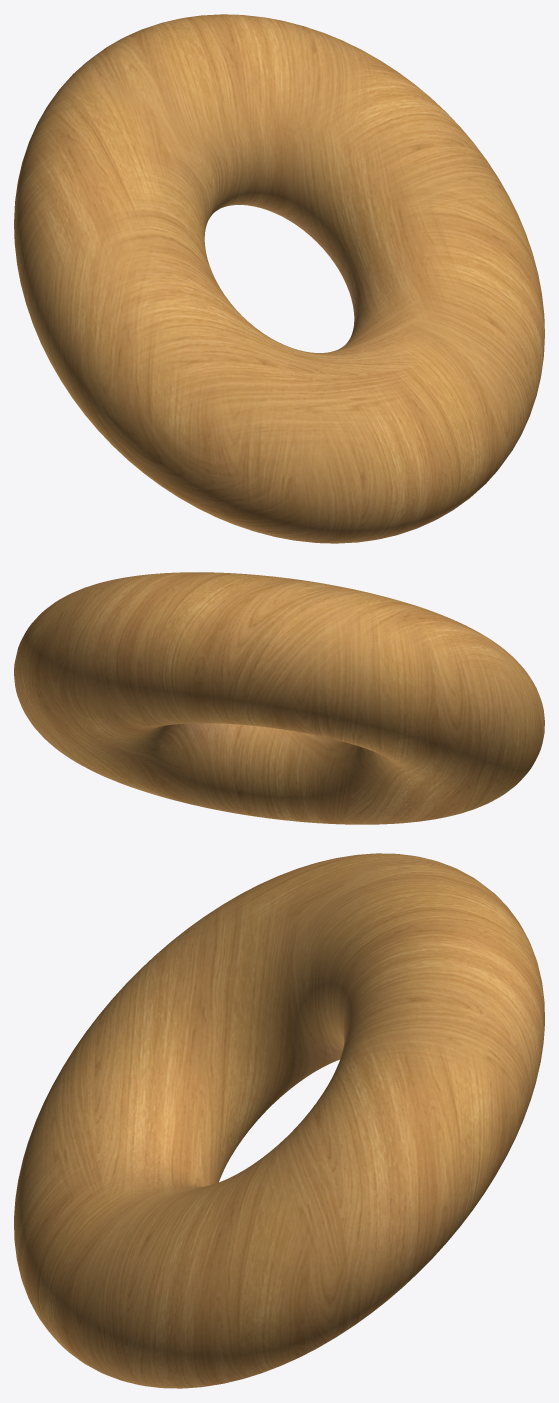
The model's file is jema.glb.
The picture shows the model from 3 angles, top to bottom: view 1: azimuth 30°, elevation 25°; view 2: azimuth 150°, elevation 25°; view 3: azimuth 270°, elevation 25°; orthographic projection. The views are drawn at different scales.
Parts seen in each view (by area): view 1: Object_5; view 2: Object_5; view 3: Object_5.
Boxes of the visible parts, bbox=[...] form: Object_5: bbox=[14, 14, 544, 543]; Object_5: bbox=[14, 572, 544, 824]; Object_5: bbox=[14, 853, 544, 1388].
Bounding box in the file's own units: 0.4115 × 0.3037 × 0.3454.
Materials: 1 (1 with a texture image).
